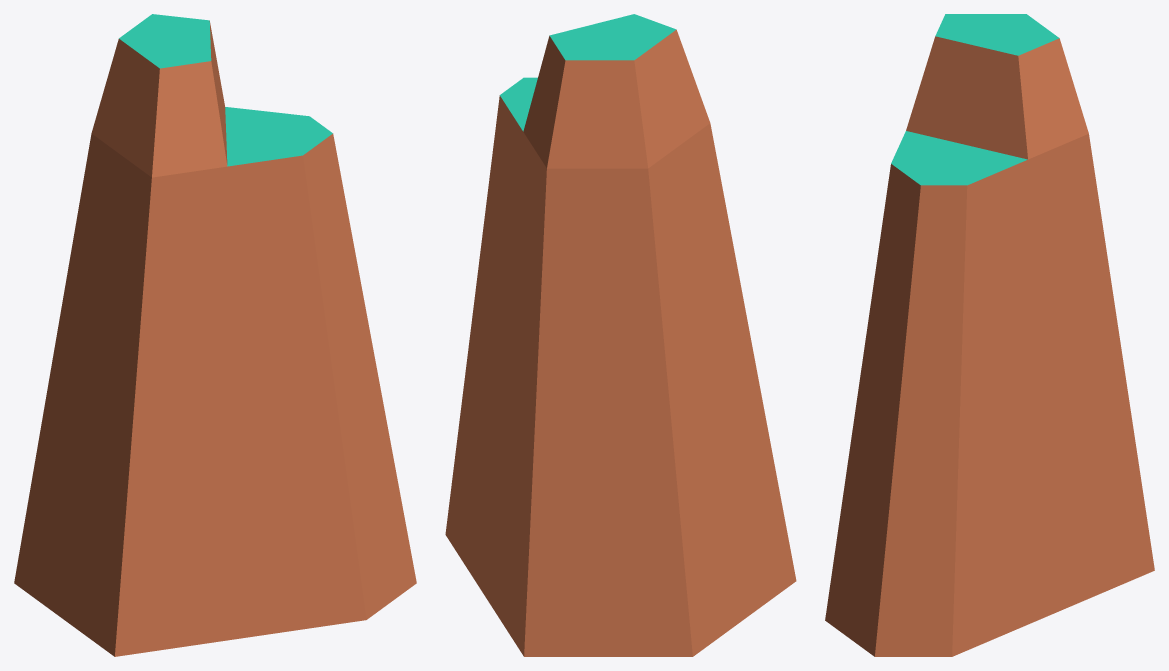
The model's file is rock_tallC.dae.
3 views of the same model, side by side, from view 1: azimuth 30°, elevation 25°; view 2: azimuth 150°, elevation 25°; view 3: azimuth 270°, elevation 25° (orthographic). The views are drawn at different scales.
Visible parts, largest first — view 1: rock_tallC; view 2: rock_tallC; view 3: rock_tallC.
Boxes of the visible parts, x1=… form: rock_tallC: x1=14, y1=14, x2=416, y2=656; rock_tallC: x1=445, y1=14, x2=796, y2=656; rock_tallC: x1=825, y1=14, x2=1154, y2=656.
Bounding box in the file's own units: 0.4562 × 0.7829 × 0.4365.
